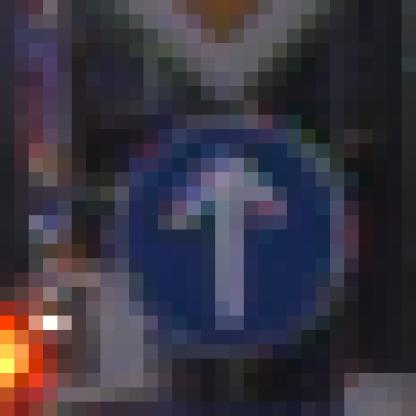AheadOnly: (87, 87, 345, 345)
